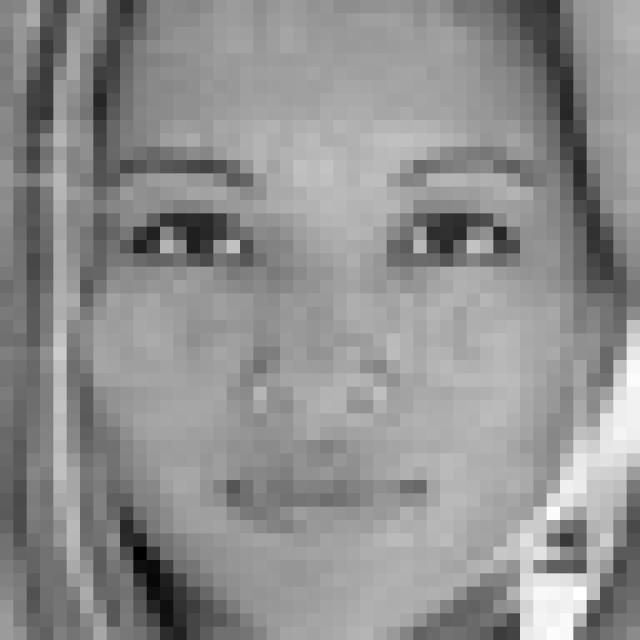neutral: (97, 138, 558, 548)
